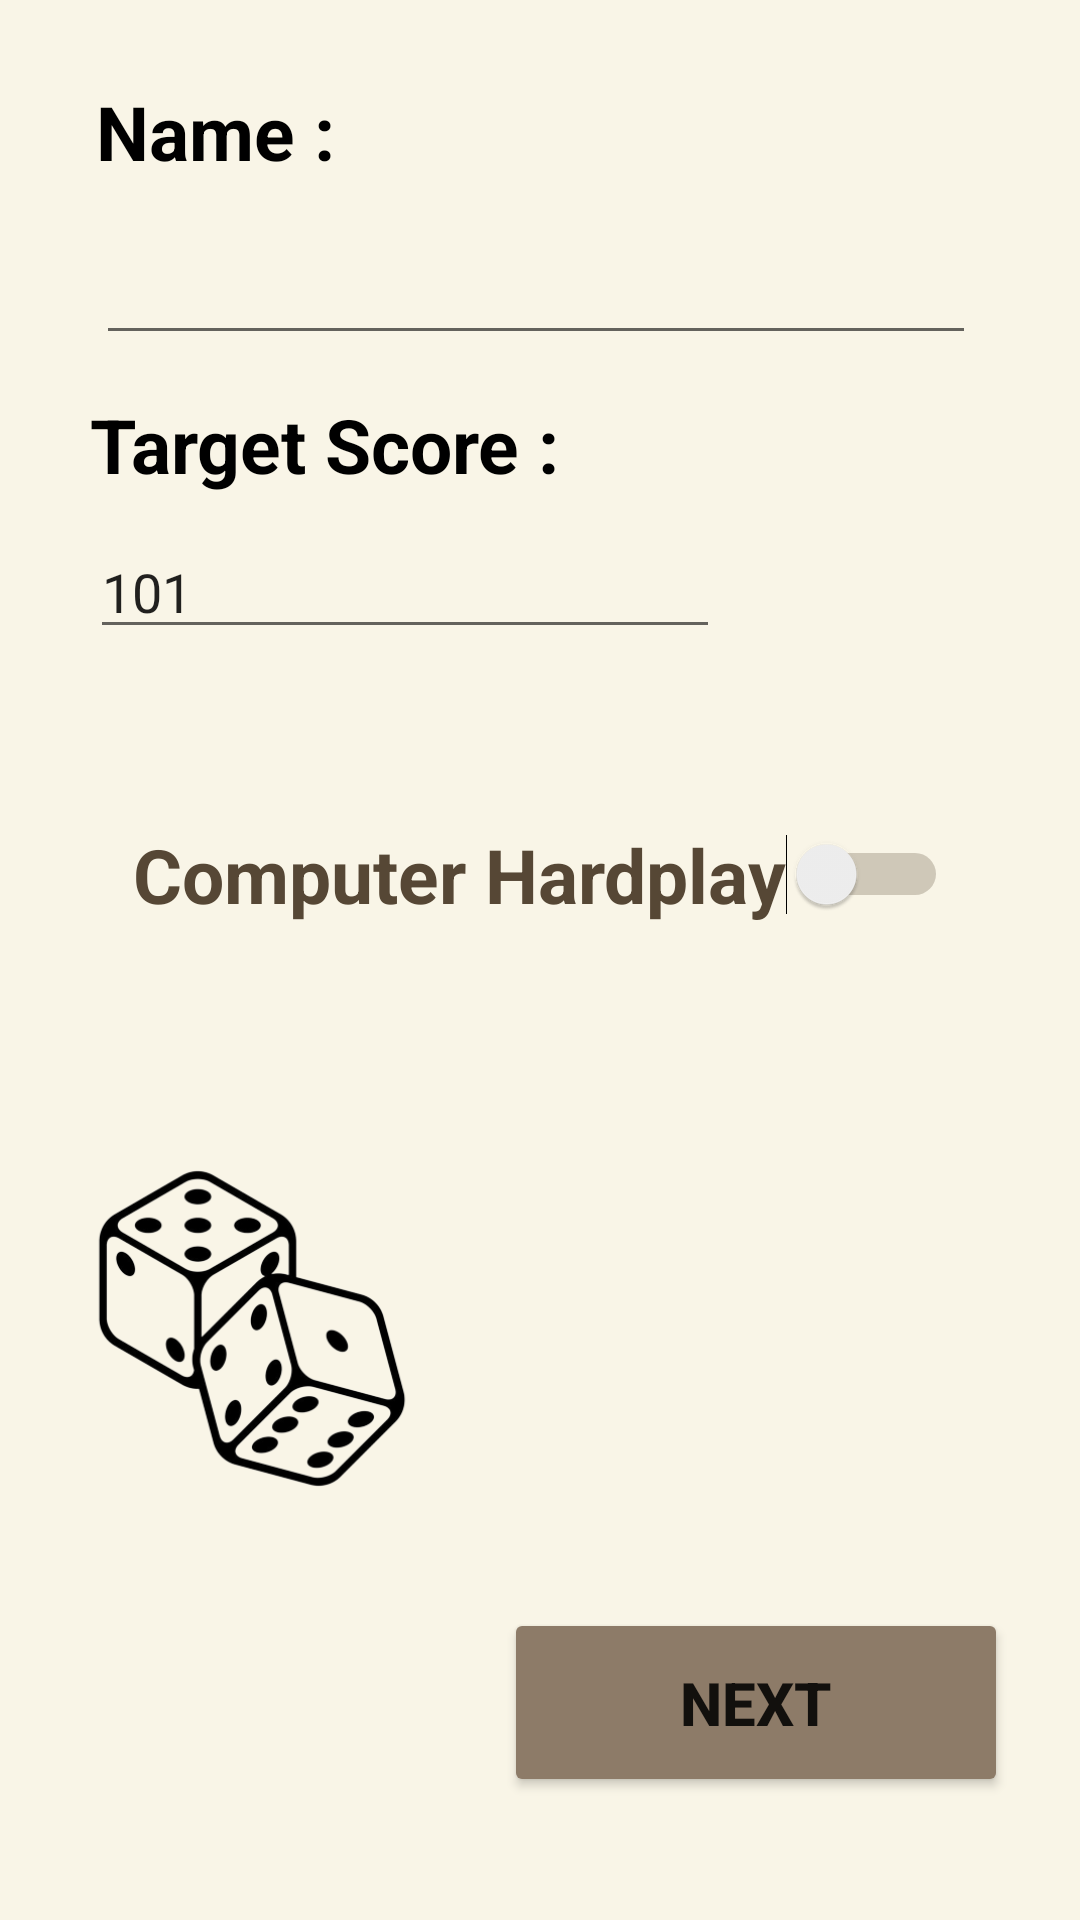

Point at icon controls on the screen. Image size 1080×1920, points as point (x, y).
dice: point (252, 1328)
